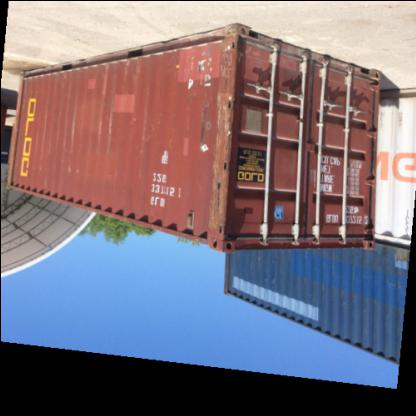Damage: (181, 36, 238, 153), (119, 56, 154, 162), (203, 155, 235, 240), (92, 64, 116, 160), (62, 85, 82, 181), (33, 112, 52, 172)
